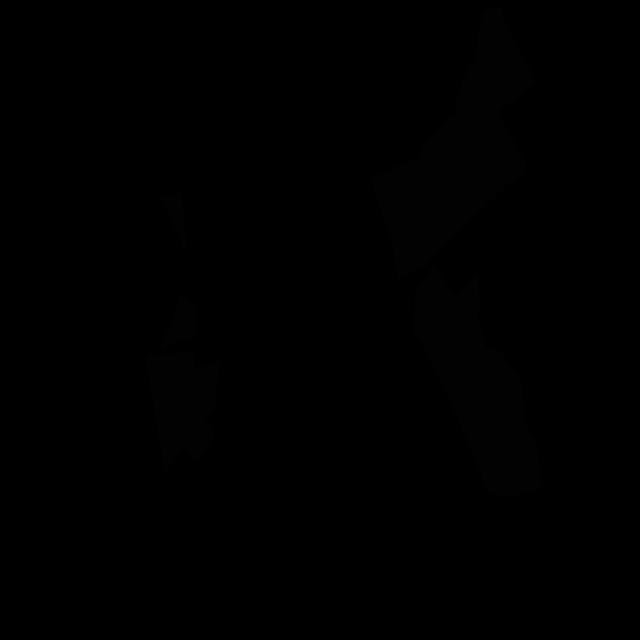cardboard: (373, 4, 538, 281), (414, 264, 546, 496), (145, 351, 220, 473), (160, 292, 197, 351), (160, 192, 188, 257)
